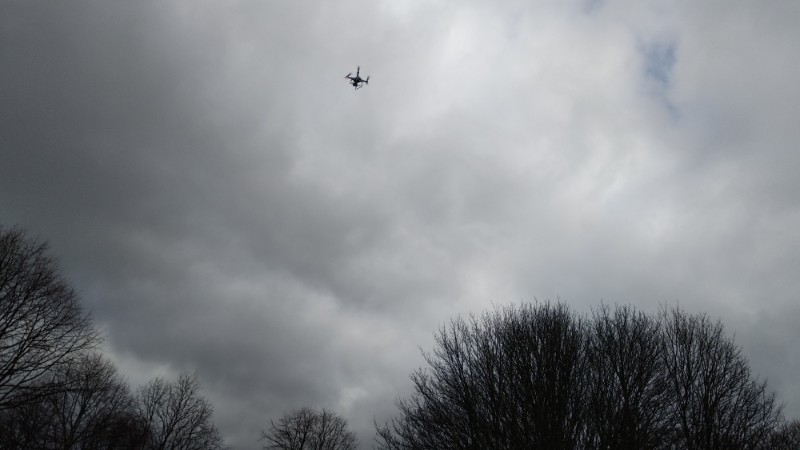drone: (345, 67, 371, 89)
